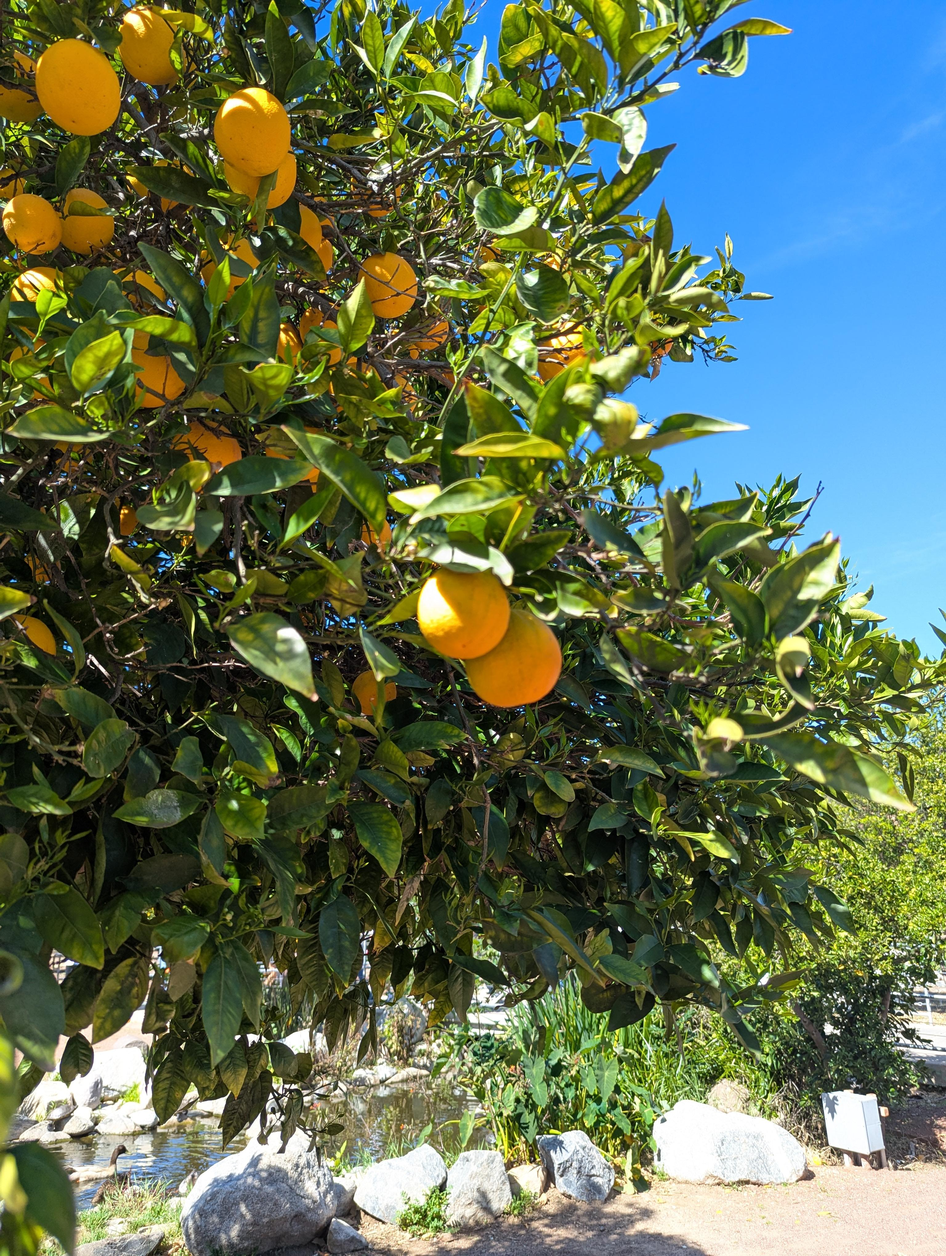orange: (466, 607, 562, 707), (416, 568, 509, 659), (35, 39, 120, 136), (214, 88, 290, 177), (117, 5, 186, 85), (170, 420, 242, 493), (9, 267, 74, 340), (224, 145, 297, 209), (199, 233, 261, 302), (132, 329, 185, 408), (357, 252, 418, 319), (53, 189, 114, 255), (2, 194, 63, 255), (537, 322, 596, 383), (265, 426, 324, 480), (0, 50, 44, 122), (9, 340, 55, 401), (112, 268, 168, 317), (329, 362, 381, 413), (267, 205, 322, 253), (0, 614, 57, 656), (152, 159, 195, 214), (352, 670, 397, 716), (352, 176, 401, 217), (276, 322, 310, 374), (413, 308, 449, 350), (381, 375, 417, 412), (299, 192, 334, 229), (55, 441, 93, 473), (317, 320, 341, 366), (361, 518, 392, 553), (168, 56, 198, 90), (300, 306, 324, 345), (24, 555, 61, 580), (0, 168, 27, 200), (475, 239, 506, 263), (125, 171, 151, 198), (119, 505, 141, 535), (316, 236, 333, 272), (443, 369, 472, 390), (544, 257, 572, 276), (647, 338, 672, 358), (309, 471, 320, 492), (529, 376, 544, 387), (408, 345, 419, 359), (396, 369, 412, 377), (346, 357, 357, 364), (479, 305, 487, 312)
